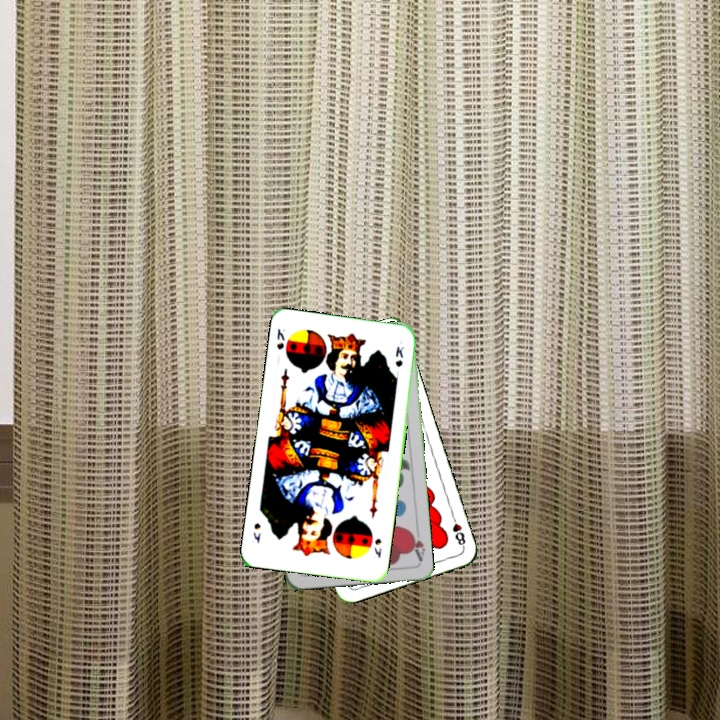H8: (448, 511, 468, 550)
HA: (406, 527, 427, 564)
SK: (273, 325, 288, 352), (370, 534, 384, 560)
